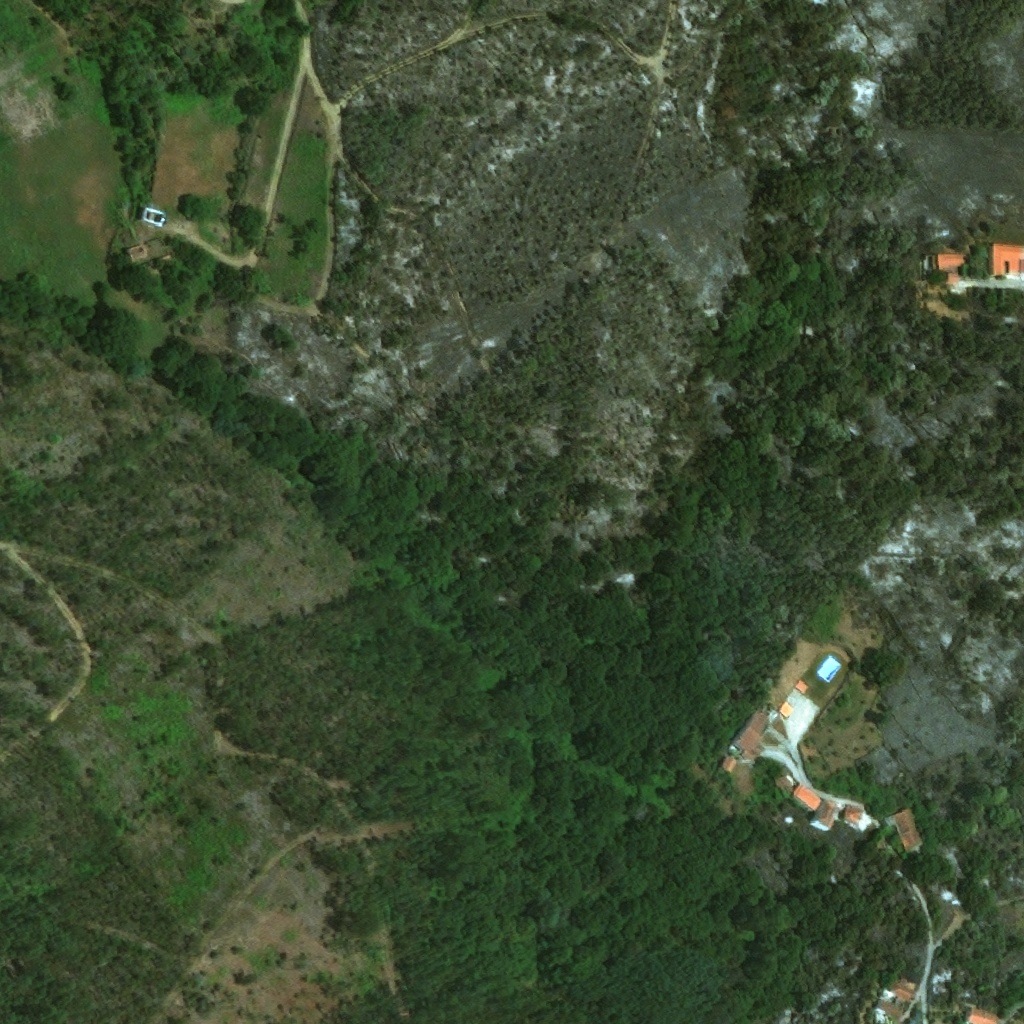0 no-damage: (791, 782, 838, 832), (730, 711, 770, 758), (890, 808, 921, 853), (989, 244, 1023, 280), (935, 251, 964, 284), (881, 979, 915, 1003), (872, 999, 904, 1021), (967, 1008, 999, 1023), (842, 806, 864, 825), (775, 771, 795, 789), (778, 701, 796, 718), (720, 755, 737, 773), (126, 245, 147, 259), (796, 680, 809, 694)
1 minor-damage: (921, 255, 930, 271)
4 un-classified: (1008, 797, 1023, 812)
